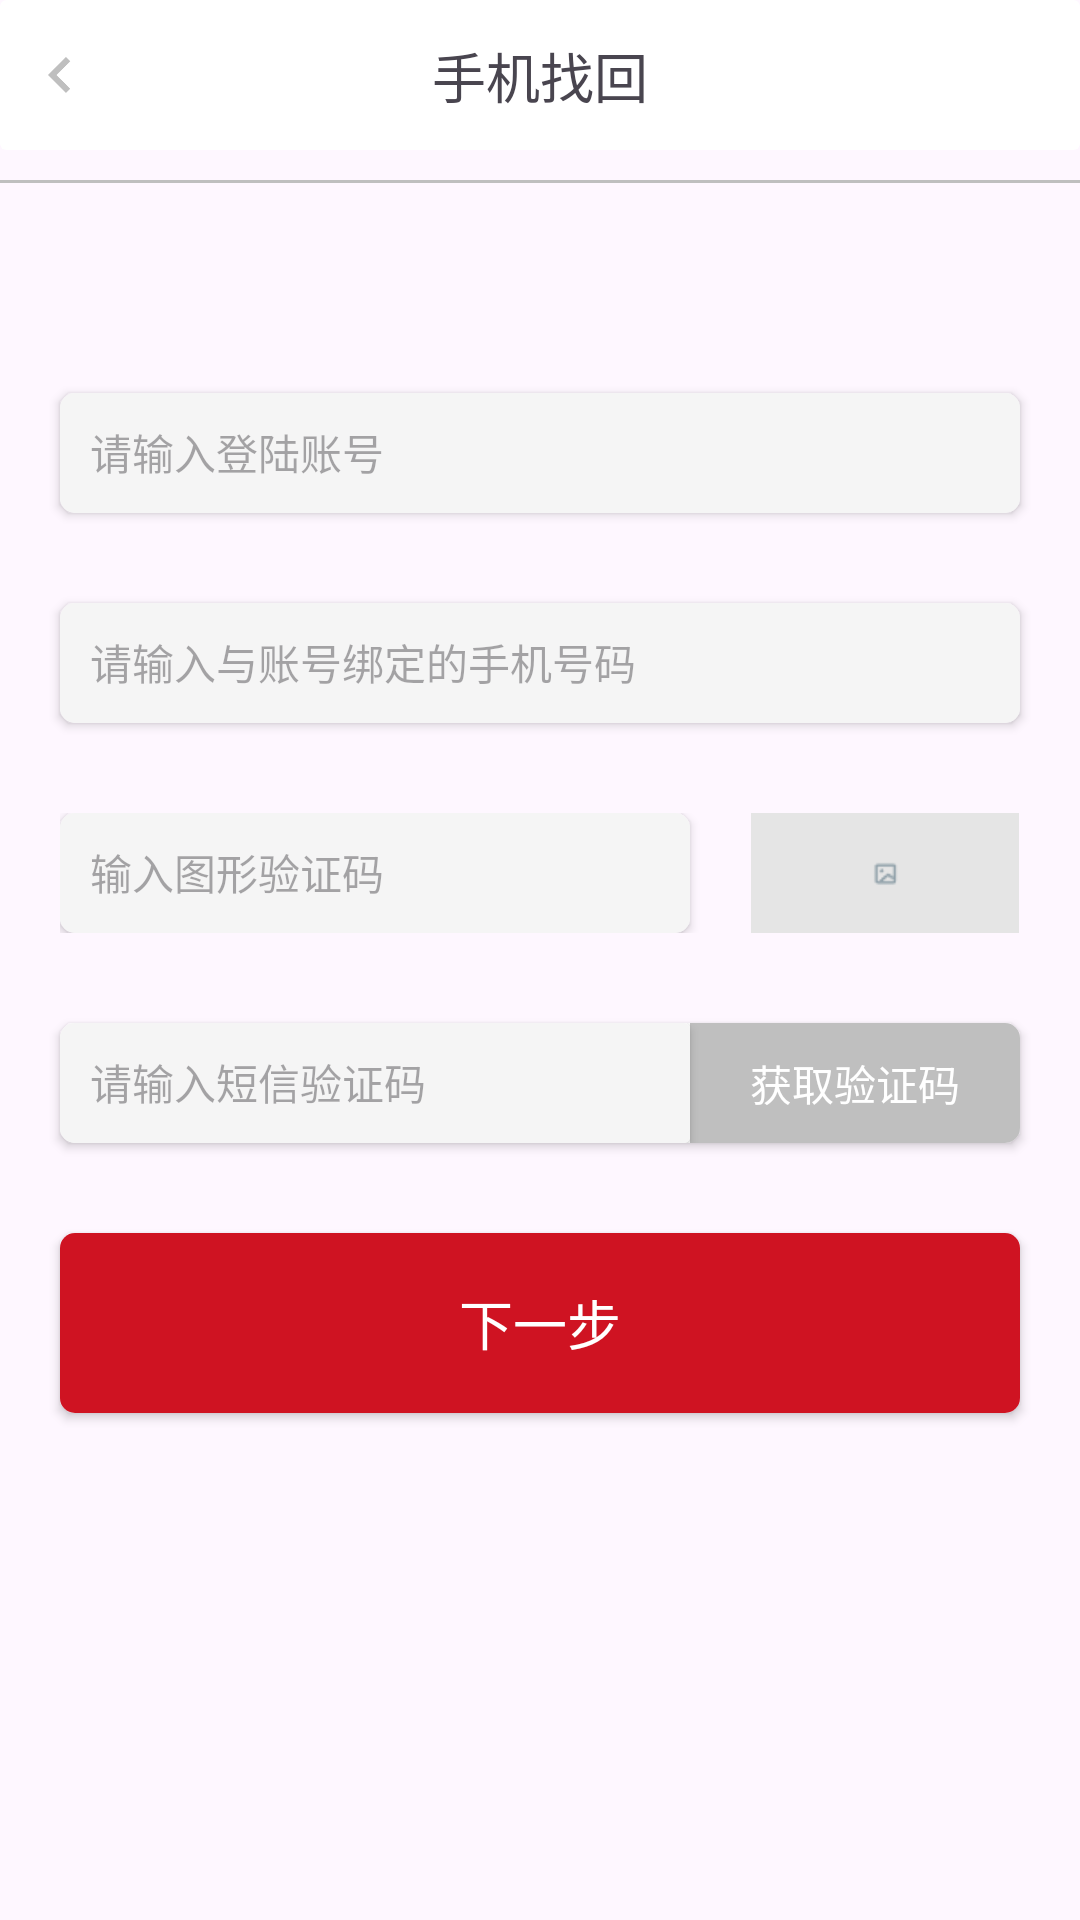

Icons on this 1080*1920 Android screen, each with its box as (x1, y1, x2, y2):
left arrow: (48, 57, 70, 93)
